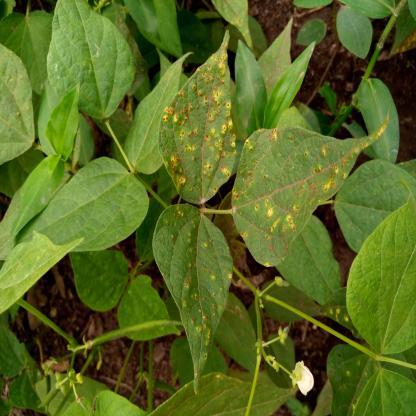Beans_Rust: (236, 121, 386, 270), (158, 205, 238, 391), (160, 48, 234, 202), (322, 348, 416, 416), (318, 288, 367, 336)
